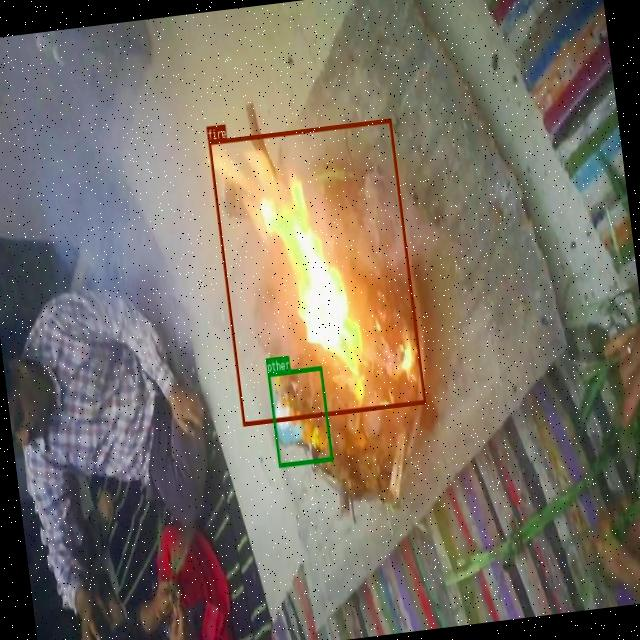fire: (207, 117, 425, 426)
